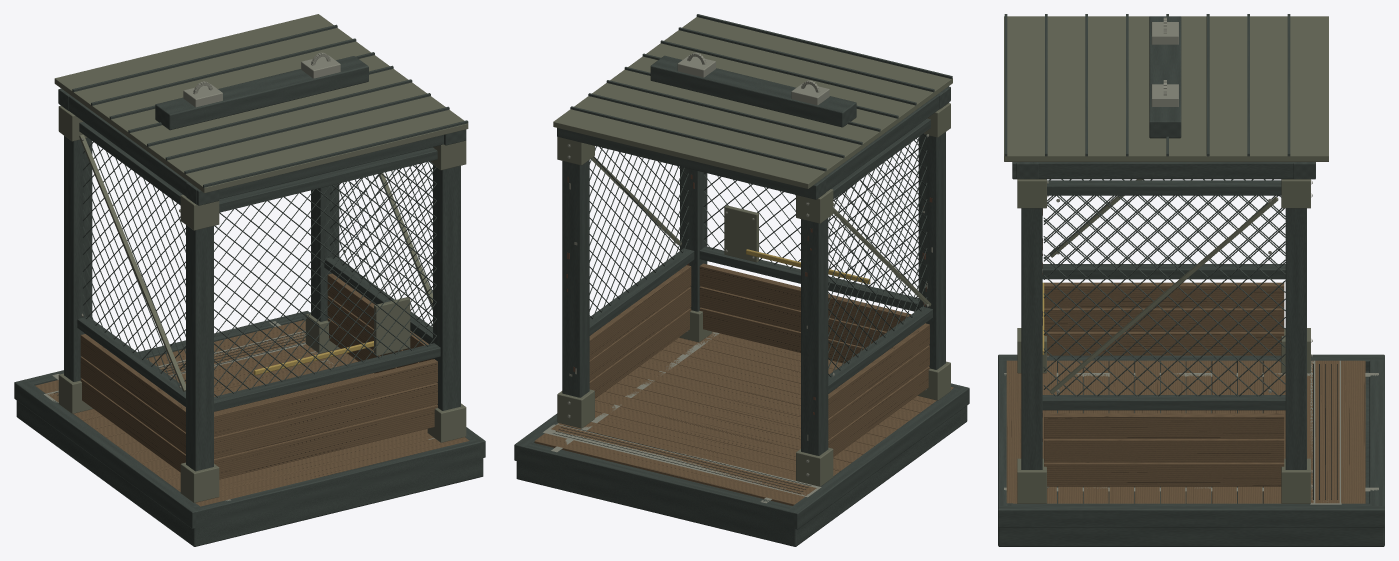
Rendered from ELEVATOR_Cabin.fbx.
3 views of the same model, side by side, from view 1: azimuth 30°, elevation 25°; view 2: azimuth 150°, elevation 25°; view 3: azimuth 270°, elevation 25° (orthographic). The views are drawn at different scales.
Visible parts, largest first — view 1: ELEVATOR_Cabin_Mesh; view 2: ELEVATOR_Cabin_Mesh; view 3: ELEVATOR_Cabin_Mesh.
Part boxes in pixels (x1,y1,x2,y2): ELEVATOR_Cabin_Mesh: (14,14,485,546); ELEVATOR_Cabin_Mesh: (514,14,969,546); ELEVATOR_Cabin_Mesh: (998,14,1384,546).
Size of the model in its own units: 3.09 by 3.9 by 3.25.
